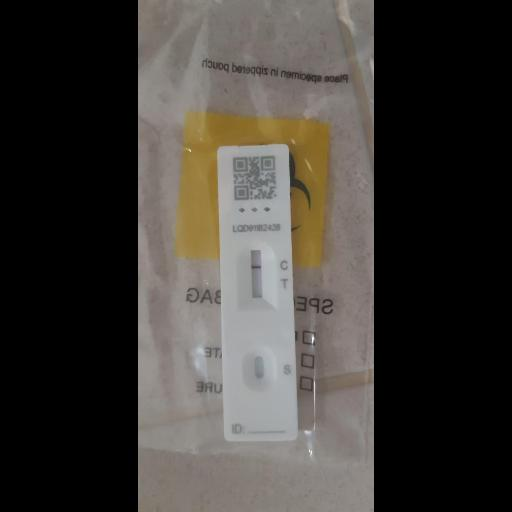Neg: (215, 144, 300, 442)
